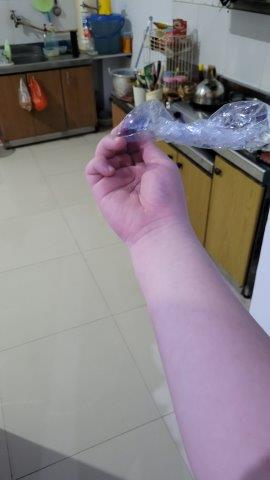botolplastik: (116, 99, 270, 153)
